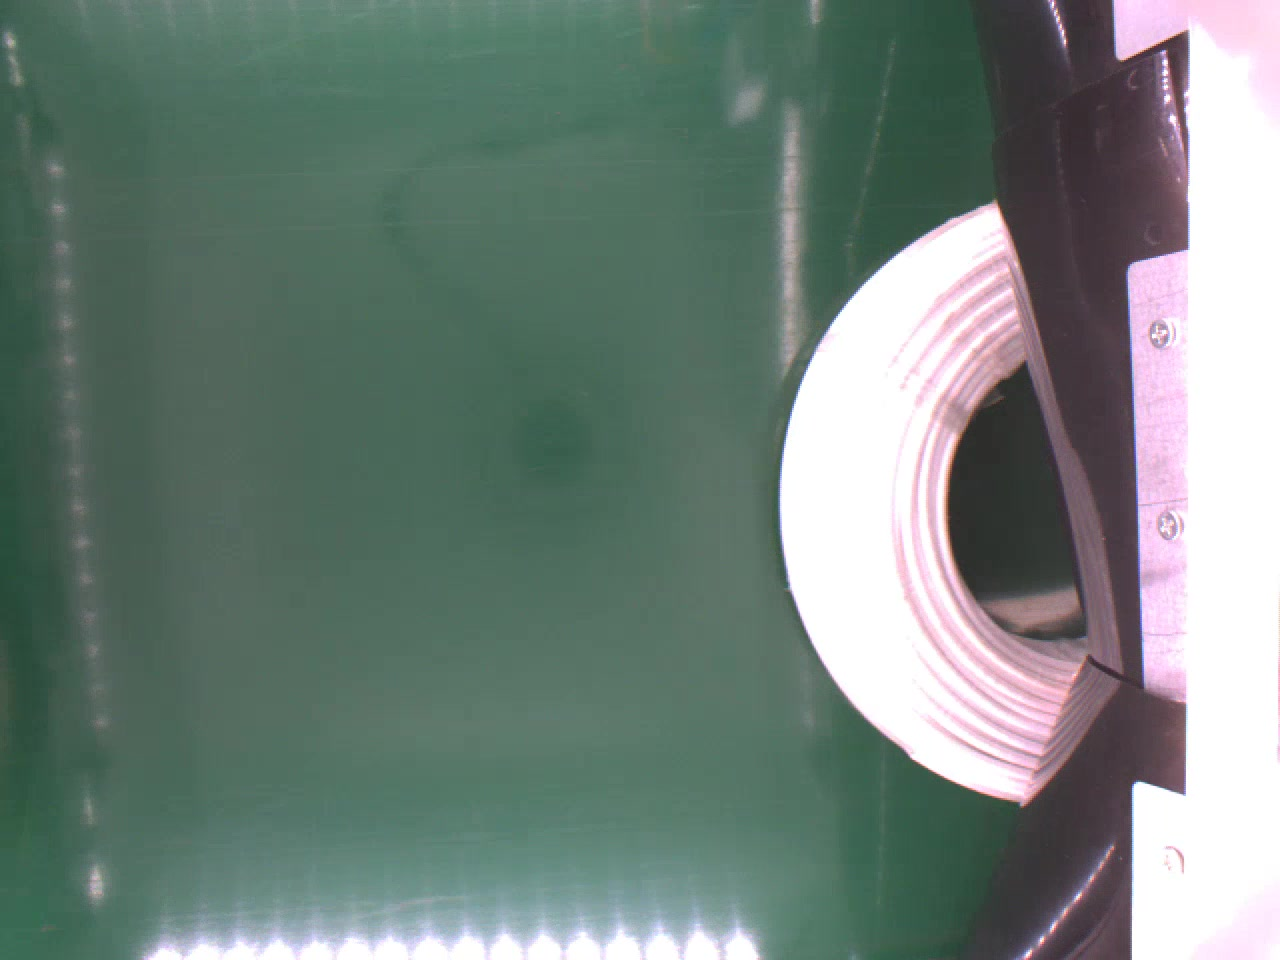white: (774, 192, 1094, 808)
